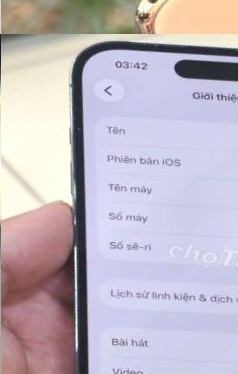scratch: (140, 0, 189, 18)
